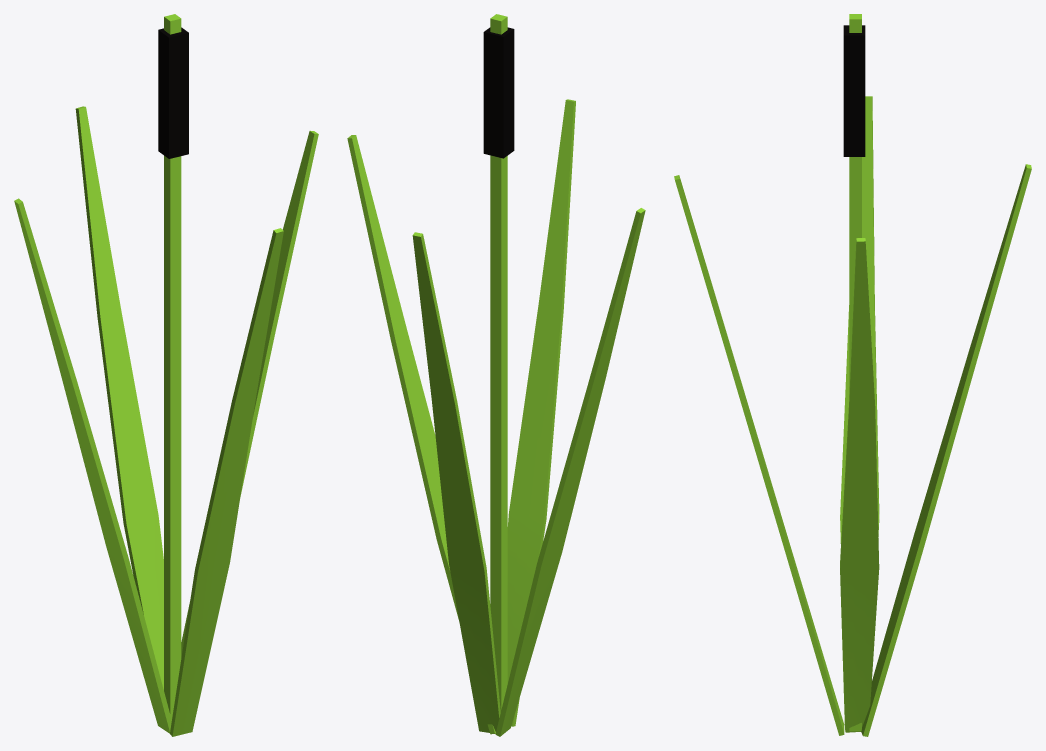
Rendered from quenouilles_avec_feuilles.FBX.
3 views of the same model, side by side, from view 1: azimuth 30°, elevation 25°; view 2: azimuth 150°, elevation 25°; view 3: azimuth 270°, elevation 25° (orthographic).
Visible parts, largest first — view 1: Plane003, Plane006, Box001, Plane005, Box002, Plane004; view 2: Plane006, Plane003, Box001, Plane005, Plane004, Box002; view 3: Plane004, Plane003, Plane006, Plane005, Box002, Box001.
Boxes of the visible parts, bbox=[...] form: Plane003: bbox=[75, 106, 163, 689]; Plane006: bbox=[170, 228, 283, 736]; Box001: bbox=[164, 14, 181, 719]; Plane005: bbox=[14, 198, 171, 733]; Box002: bbox=[158, 27, 188, 158]; Plane004: bbox=[181, 130, 318, 657]; Plane006: bbox=[507, 99, 575, 726]; Plane003: bbox=[412, 232, 500, 732]; Box001: bbox=[490, 14, 507, 712]; Plane005: bbox=[495, 208, 645, 736]; Plane004: bbox=[347, 135, 495, 734]; Box002: bbox=[483, 27, 514, 158]; Plane004: bbox=[840, 238, 879, 732]; Plane003: bbox=[861, 164, 1031, 736]; Plane006: bbox=[674, 175, 844, 735]; Plane005: bbox=[840, 96, 879, 543]; Box002: bbox=[843, 25, 865, 156]; Box001: bbox=[849, 14, 861, 731].
Size of the model in its own units: 12.12 by 27.72 by 12.6.
